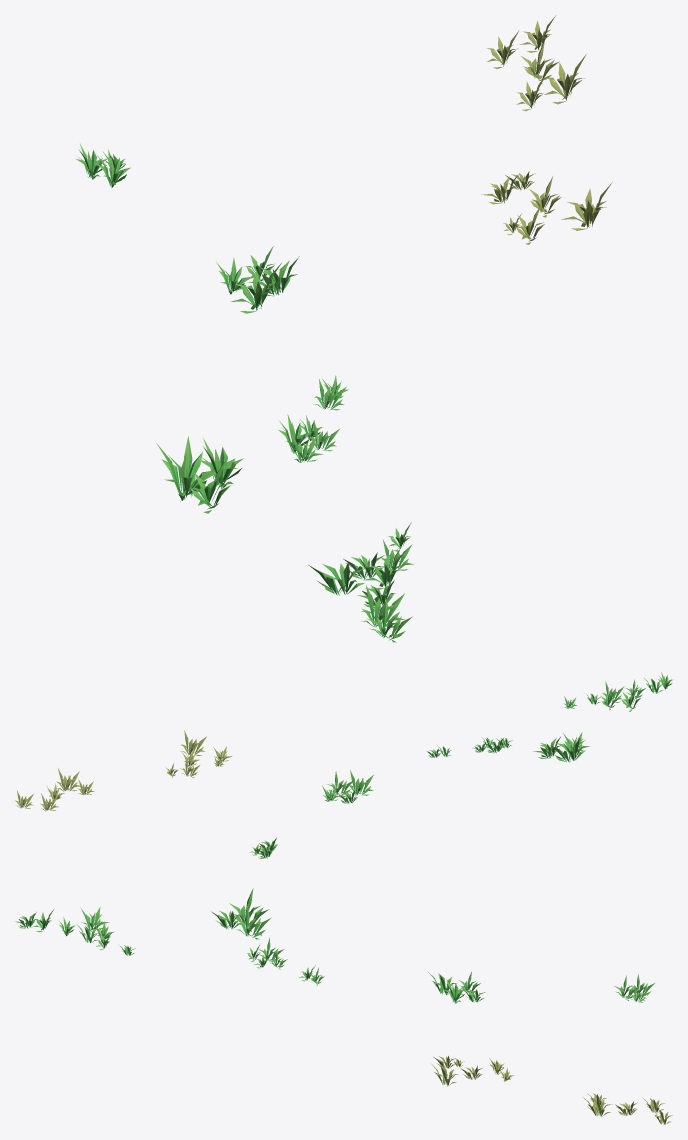
Rendered from area_12_10.fbx.
3 views of the same model, one above another, from view 1: azimuth 30°, elevation 25°; view 2: azimuth 150°, elevation 25°; view 3: azimuth 270°, elevation 25° (orthographic). The views are drawn at different scales.
Parts seen in each view (by area): view 1: area_12_10; view 2: area_12_10; view 3: area_12_10.
Boxes of the visible parts, box(x1,y1,x2,y2) form: area_12_10: box(75, 15, 612, 642); area_12_10: box(15, 672, 673, 858); area_12_10: box(15, 888, 672, 1124).
Size of the model in its own units: 22.61 by 1.66 by 30.17.
